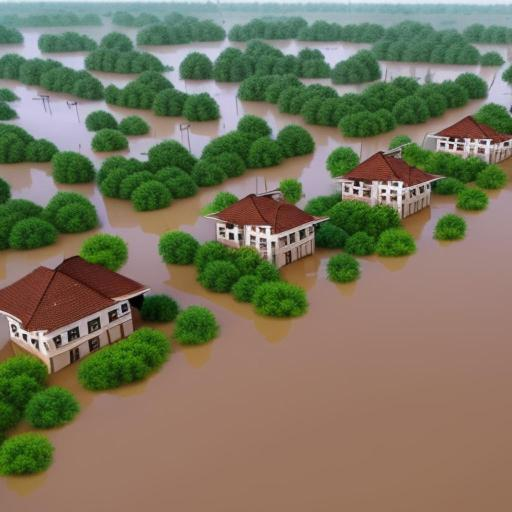flood: (0, 38, 512, 512), (380, 44, 512, 106), (0, 18, 136, 69), (136, 38, 247, 94), (266, 39, 372, 65), (266, 39, 372, 64), (300, 78, 378, 95), (94, 72, 136, 87), (336, 84, 368, 93)
house: (0, 248, 150, 378), (201, 188, 321, 276), (339, 147, 443, 218), (431, 117, 512, 171)
